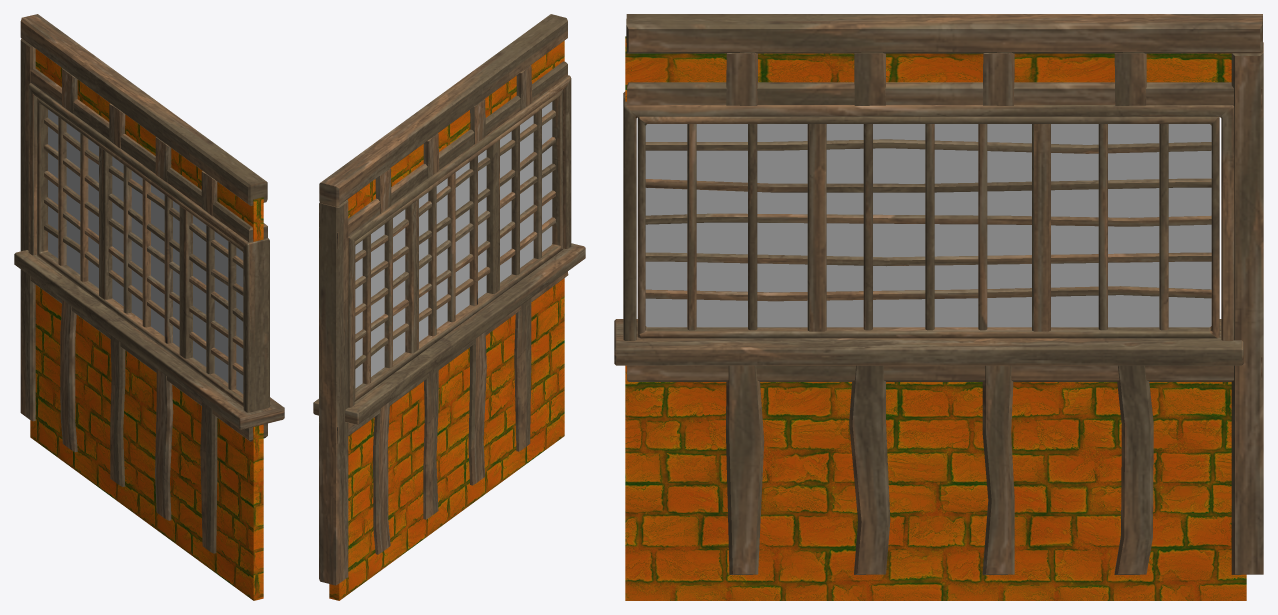
The model's file is SM_wall_15.fbx.
The picture shows the model from 3 angles, left to right: view 1: azimuth 30°, elevation 25°; view 2: azimuth 150°, elevation 25°; view 3: azimuth 270°, elevation 25°; orthographic projection. The views are drawn at different scales.
Parts seen in each view (by area): view 1: SM_wall_15_LOD0; view 2: SM_wall_15_LOD0; view 3: SM_wall_15_LOD0.
Part boxes in pixels (x1,y1,x2,y2): SM_wall_15_LOD0: [14, 14, 284, 600]; SM_wall_15_LOD0: [313, 14, 585, 600]; SM_wall_15_LOD0: [614, 14, 1263, 600].
Bounding box in the file's own units: 45.65 × 407 × 400.
